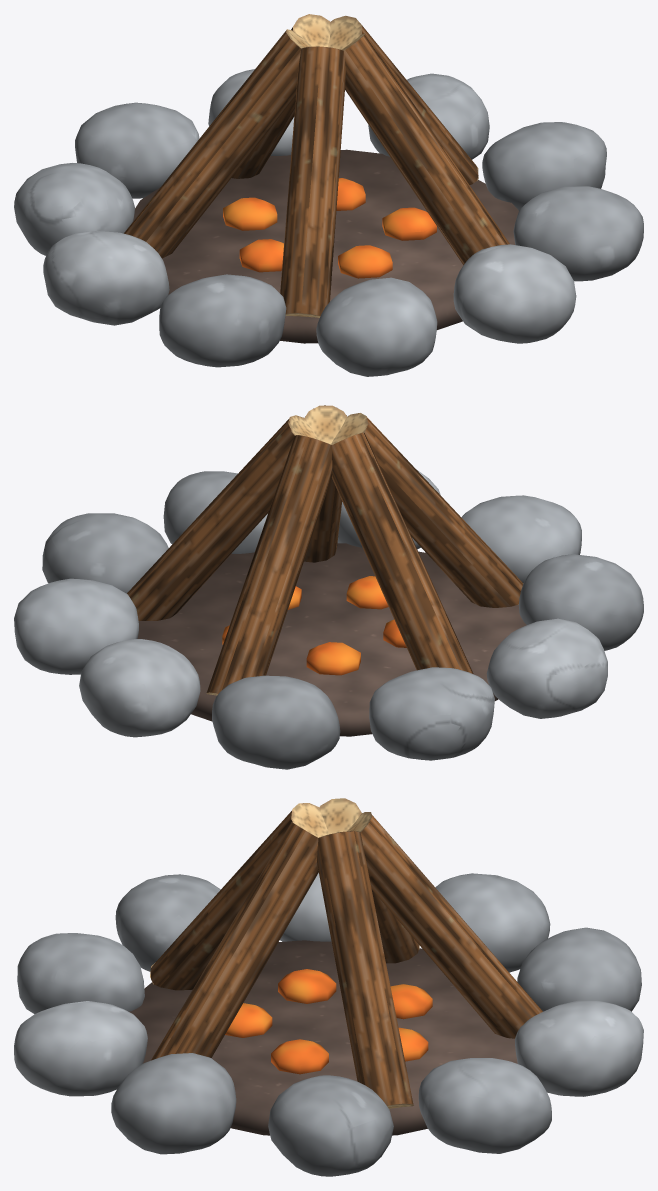
Rendered from campfire.glb.
3 views of the same model, one above another, from view 1: azimuth 30°, elevation 25°; view 2: azimuth 150°, elevation 25°; view 3: azimuth 270°, elevation 25° (orthographic). The views are drawn at different scales.
Parts seen in each view (by area): view 1: Campfire; view 2: Campfire; view 3: Campfire.
Part boxes in pixels (x1,y1,x2,y2): Campfire: (14,14,643,376); Campfire: (14,405,643,769); Campfire: (14,798,643,1176).
Bounding box in the file's own units: 1.5 × 0.6095 × 1.44.
1 material, 1 textured.
